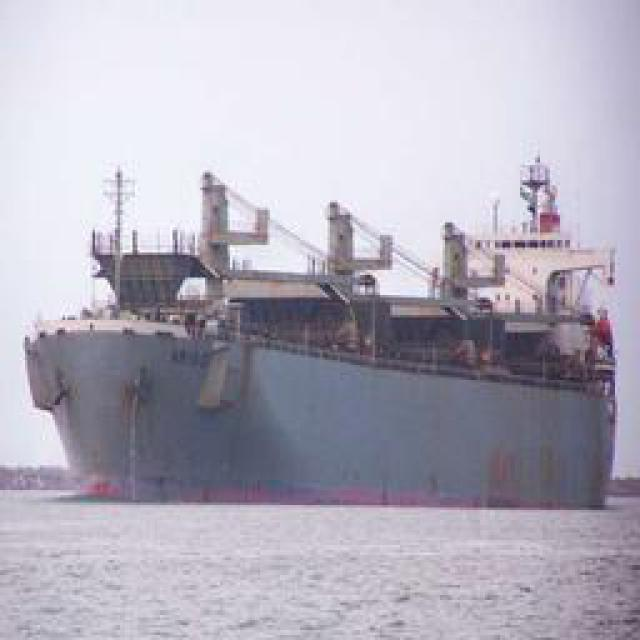Ship: (30, 136, 633, 496)
